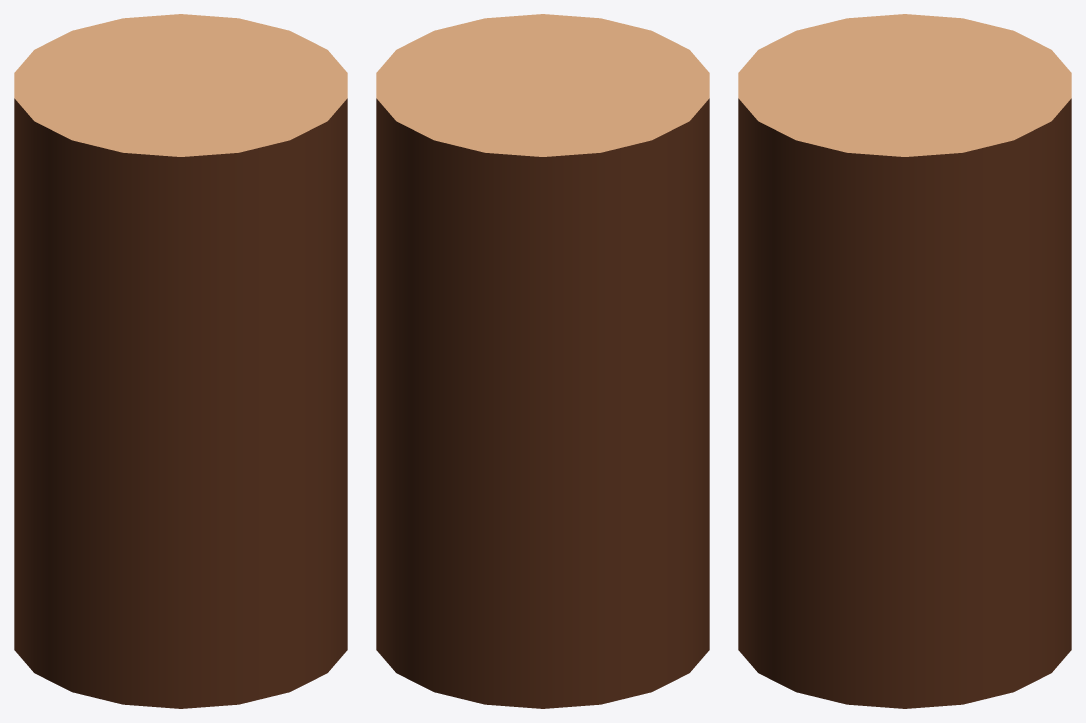
The model's file is log.FBX.
3 views of the same model, side by side, from view 1: azimuth 30°, elevation 25°; view 2: azimuth 150°, elevation 25°; view 3: azimuth 270°, elevation 25° (orthographic).
Visible parts, largest first — view 1: Cylinder001; view 2: Cylinder001; view 3: Cylinder001.
Part boxes in pixels (x1,y1,x2,y2): Cylinder001: (14,14,347,708); Cylinder001: (376,14,709,708); Cylinder001: (738,14,1071,708).
Size of the model in its own units: 2.51 by 4.51 by 2.47.
